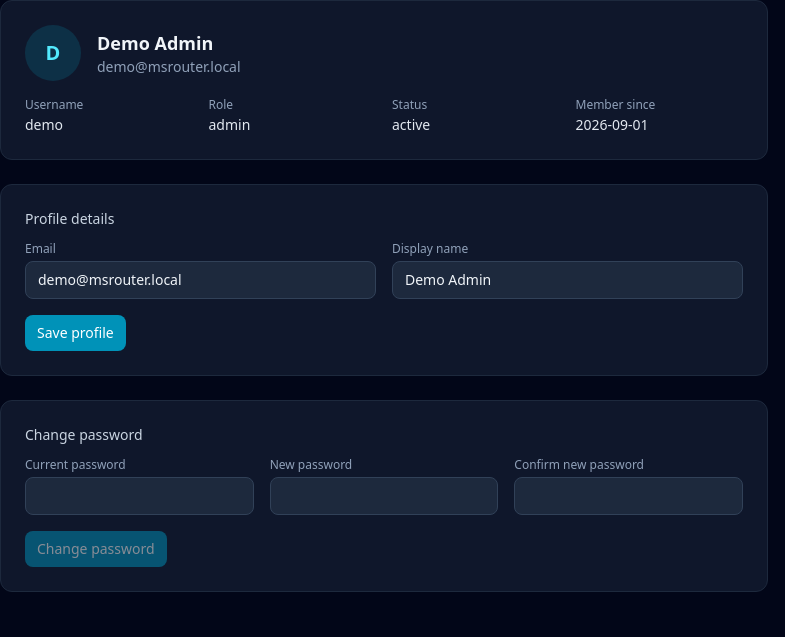
Test: ProfilePage › changes the password with a matching confirmation
Type "demo1234" into the password field labelled "Current password" at (139, 496), box [25, 477, 254, 515]
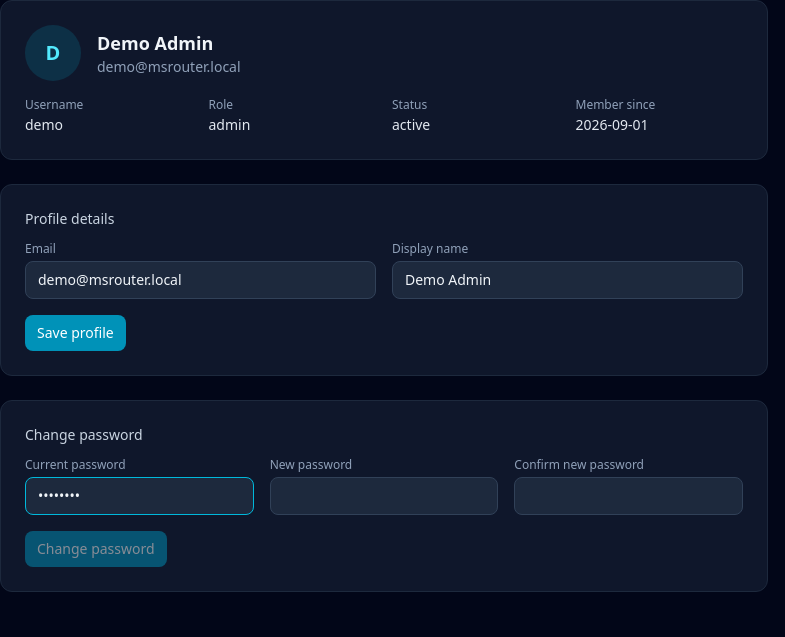
Type "brand-new-pass" into the password field labelled "New password" at (384, 496), box [270, 477, 498, 515]
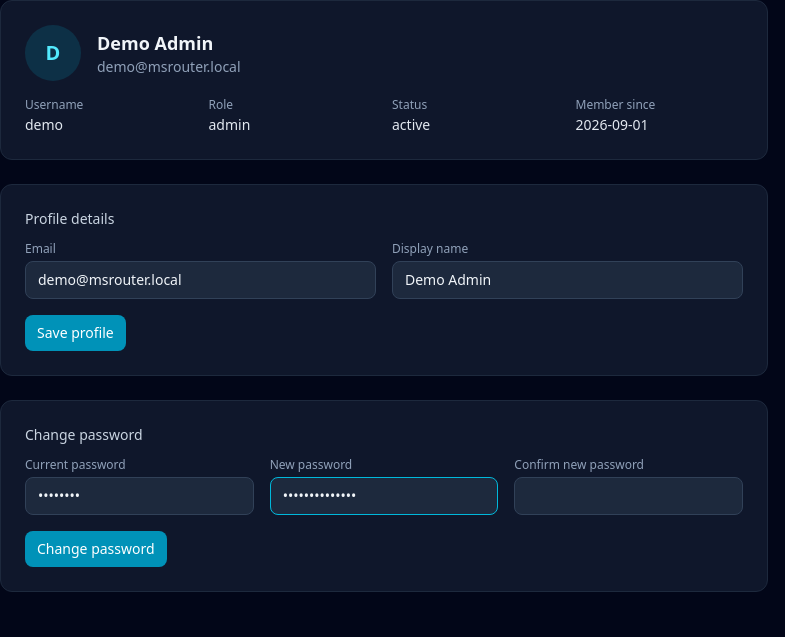
Type "brand-new-pass" into the password field labelled "Confirm new password" at (629, 496), box [514, 477, 743, 515]
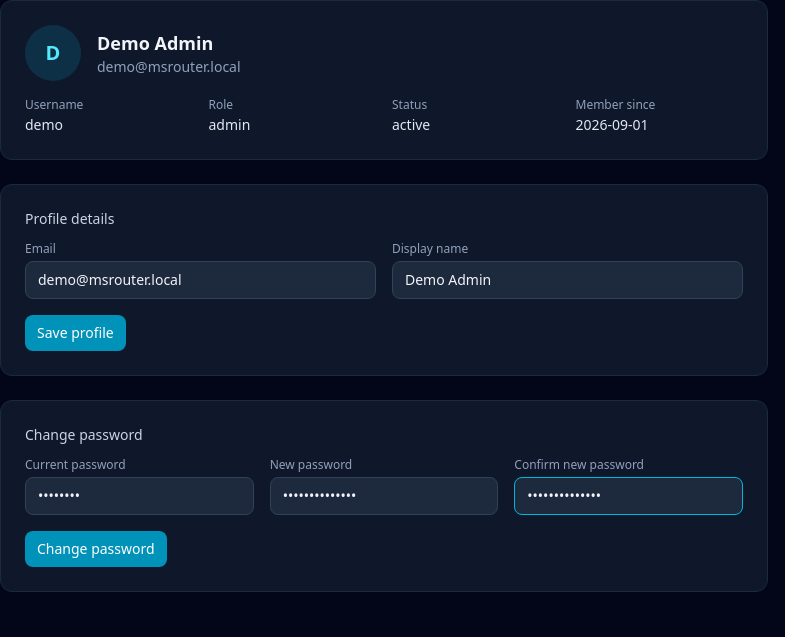
Click the button "Change password" at (96, 549), box [25, 531, 167, 567]
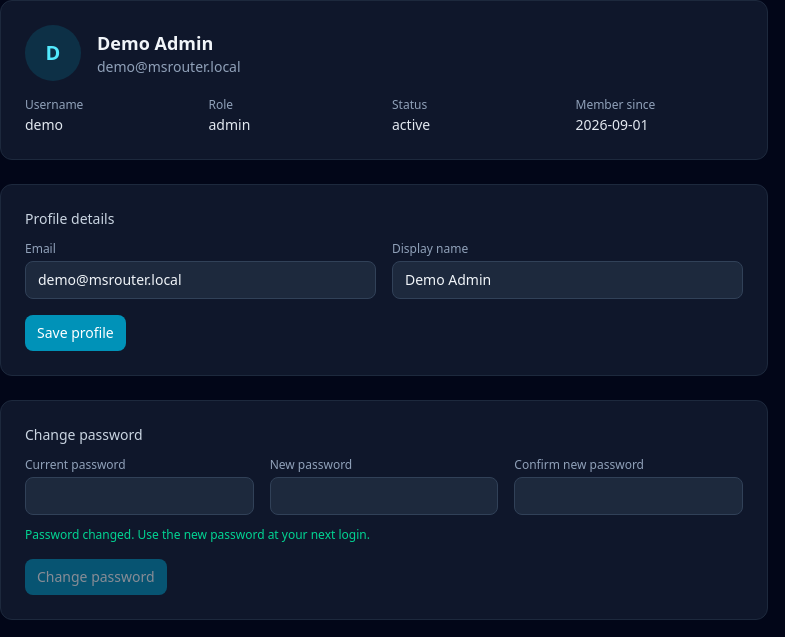
Now the text "Password changed. Use the new password at your next login." is shown, box [25, 526, 370, 543]
